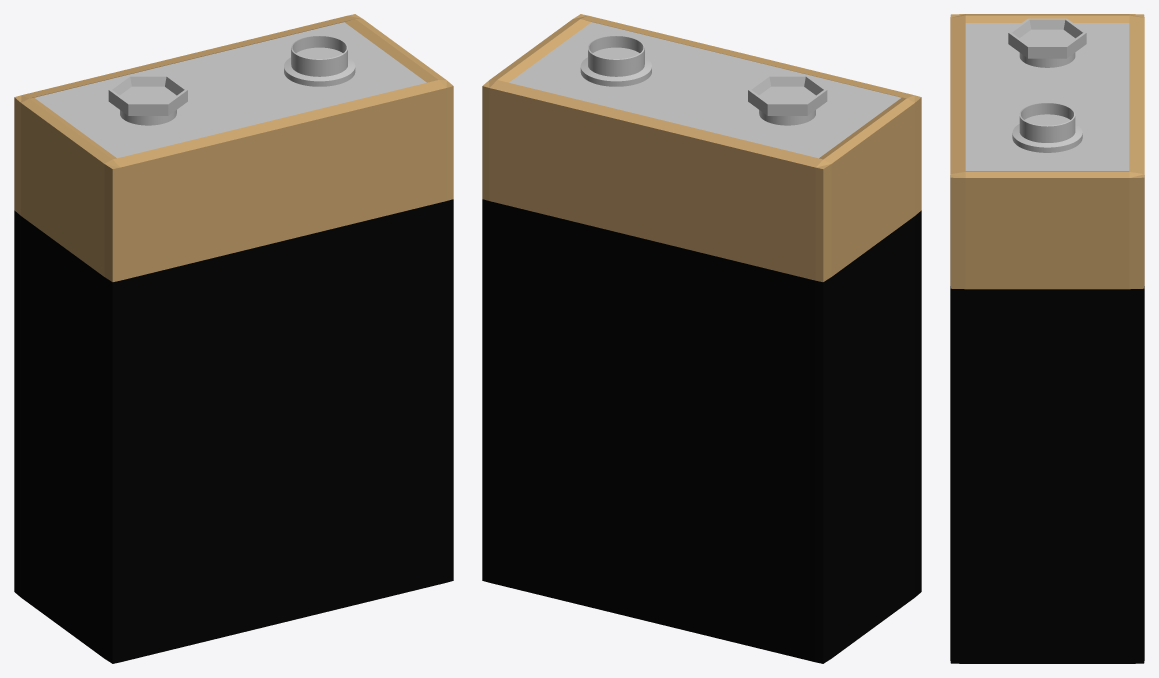
The model's file is battery_9v_block.fbx.
The picture shows the model from 3 angles, left to right: view 1: azimuth 30°, elevation 25°; view 2: azimuth 150°, elevation 25°; view 3: azimuth 270°, elevation 25°; orthographic projection.
Parts seen in each view (by area): view 1: Cylinder.010; view 2: Cylinder.010; view 3: Cylinder.010.
Boxes of the visible parts, x1,y1,x2,y2 form: Cylinder.010: (14, 14, 453, 663); Cylinder.010: (482, 14, 921, 663); Cylinder.010: (950, 14, 1144, 663).
Size of the model in its own units: 200 by 290 by 100.
